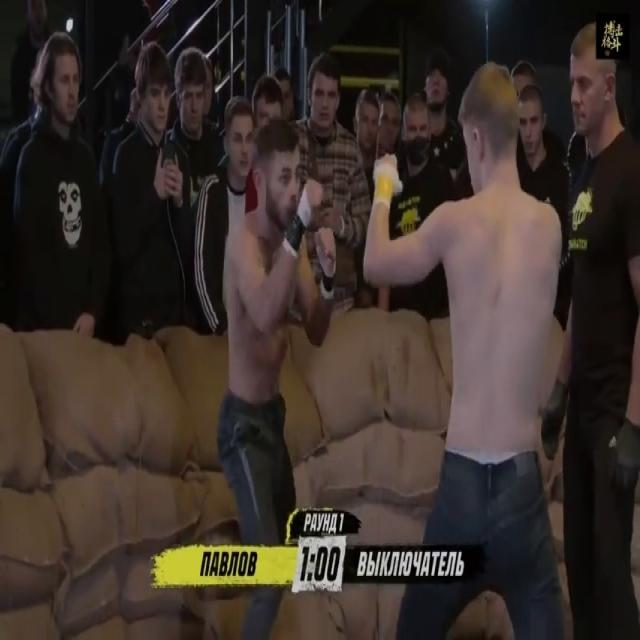fight: (215, 62, 562, 640)
non-fight: (550, 13, 640, 639)
